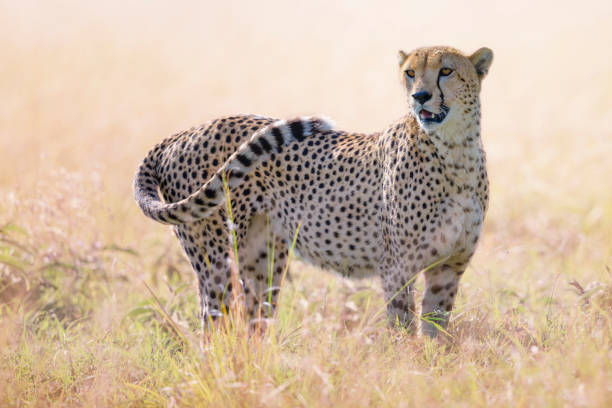cheetah: (388, 40, 503, 146)
